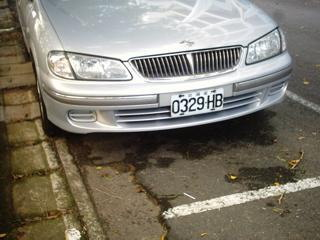plate: (170, 92, 225, 117)
